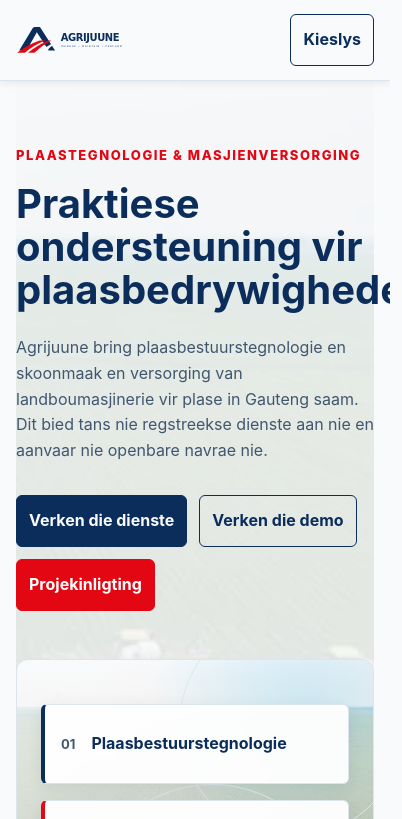
it: public application shell › localizes the mobile menu controls when Afrikaans is selected
Earlier steps of the test are not shown.
Step 1. Click the button "Kieslys" → (332, 40), box [290,14,374,66]
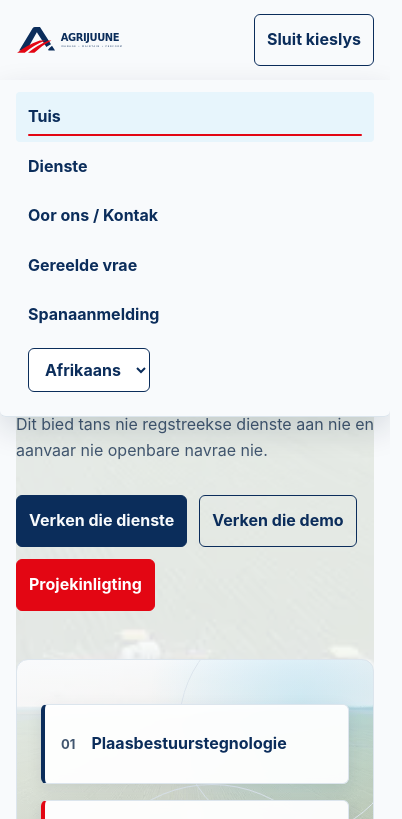
Now the button "Sluit kieslys" is expanded, box [254,14,374,66]
Now the navigation bar named "Primêre navigasie" is shown, box [0,80,390,417]
